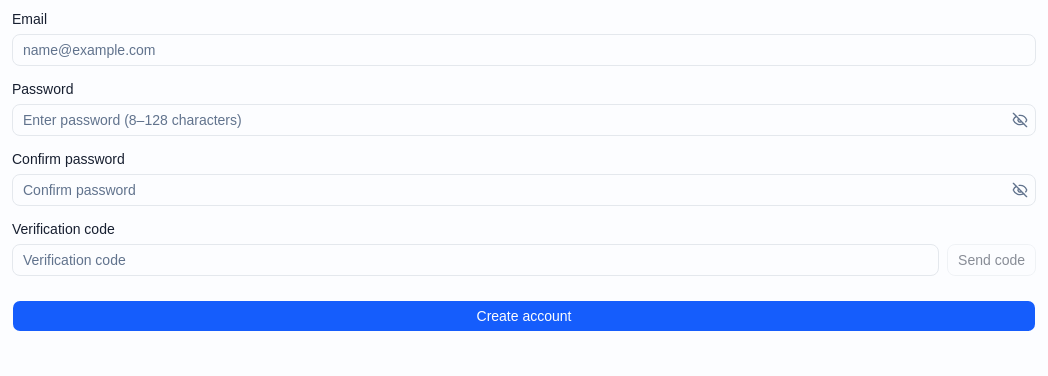
sign-up form › rejects a confirmation that does not match the password
This screenshot has width=1048, height=376.
Step 1. Type "ada@example.com" into the field labelled "Email" → (524, 50), box [12,34,1036,66]
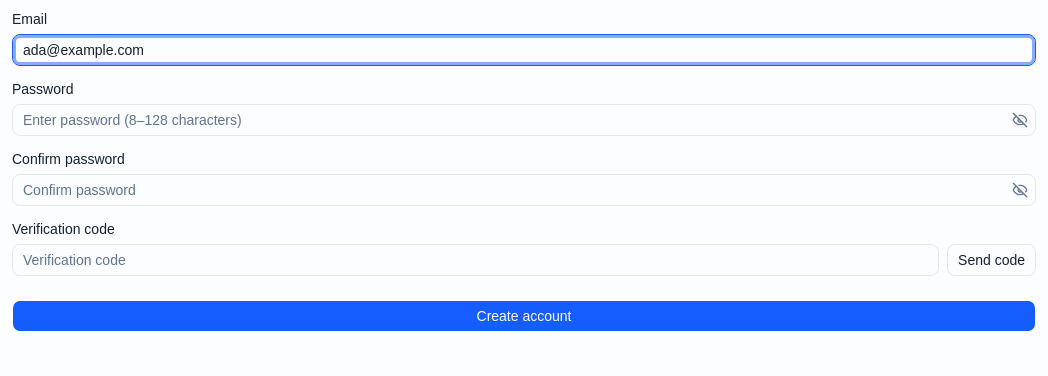
Step 2. Type "correct-horse" into the password field labelled "Password" → (524, 120), box [12,104,1036,136]
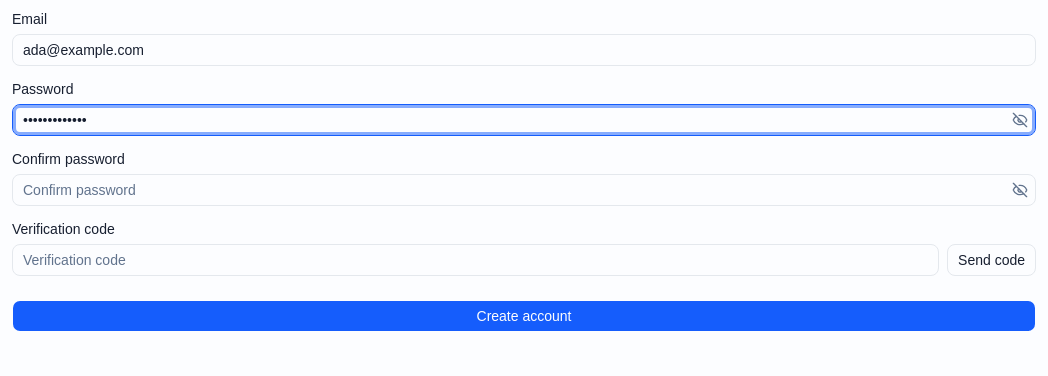
Step 3. Type "different-horse" into the password field labelled "Confirm password" → (524, 190), box [12,174,1036,206]
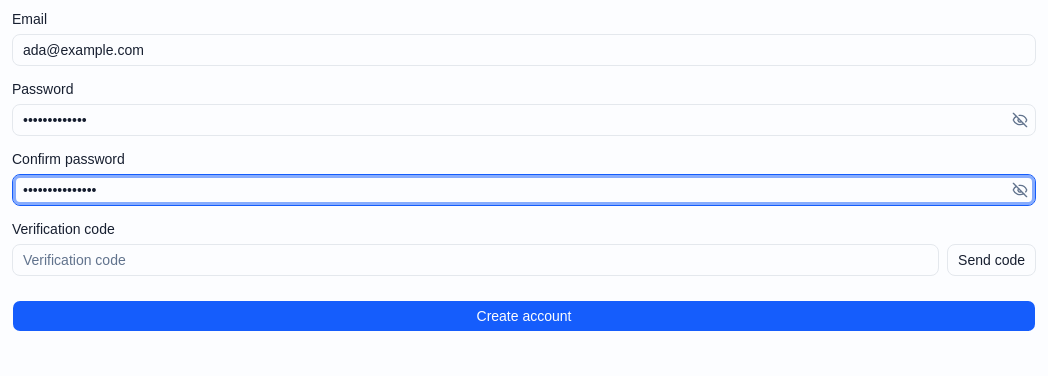
Step 4. Type "24681357" into the field labelled "Verification code" → (476, 260), box [12,244,939,276]
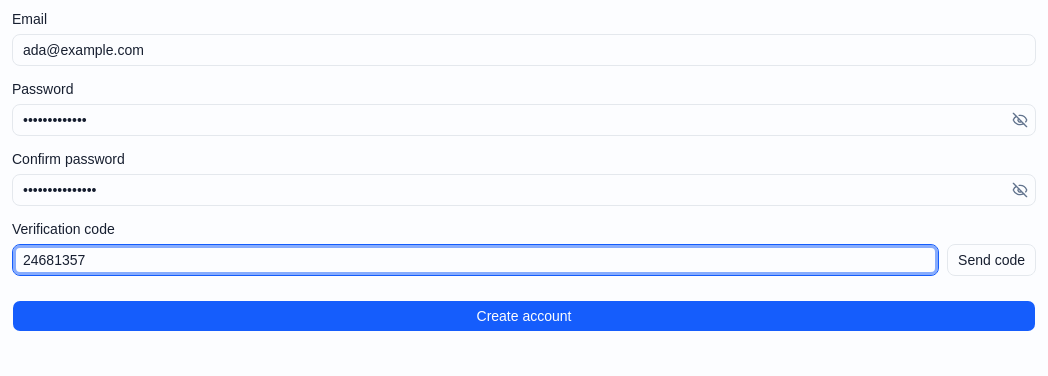
Step 5. Click the button "Create account" → (524, 316), box [12,300,1036,332]
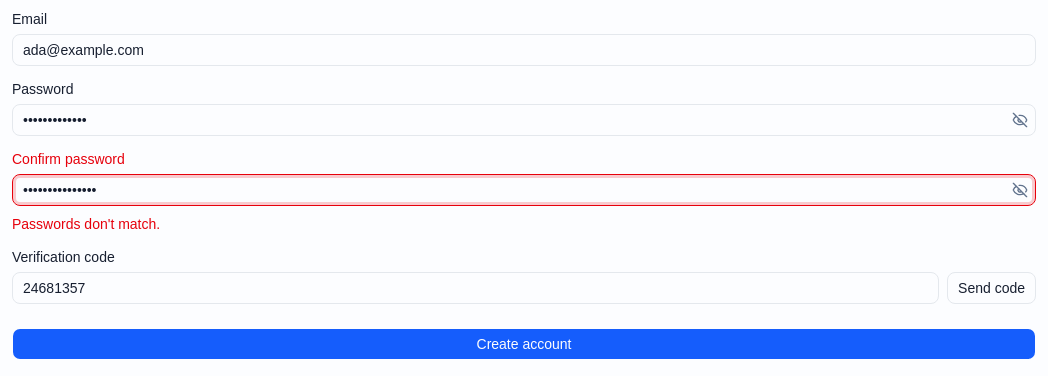
Expected: the text "Passwords don't match." is shown, [12,216,160,232]
